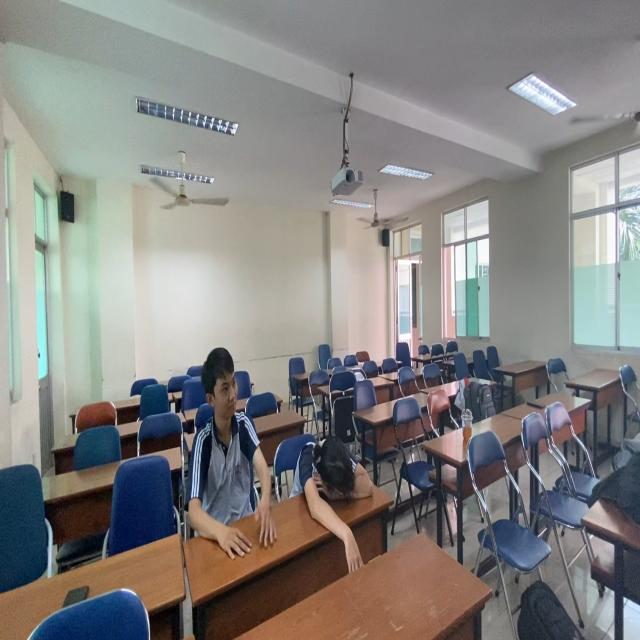sleep: (290, 417, 379, 544)
